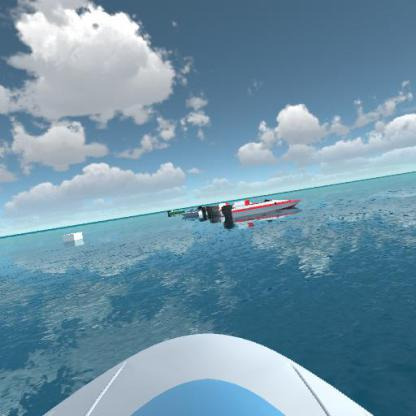usv0: (165, 205, 185, 217)
usv1: (181, 202, 205, 220)
usv3: (220, 194, 304, 224), (205, 199, 235, 219)
